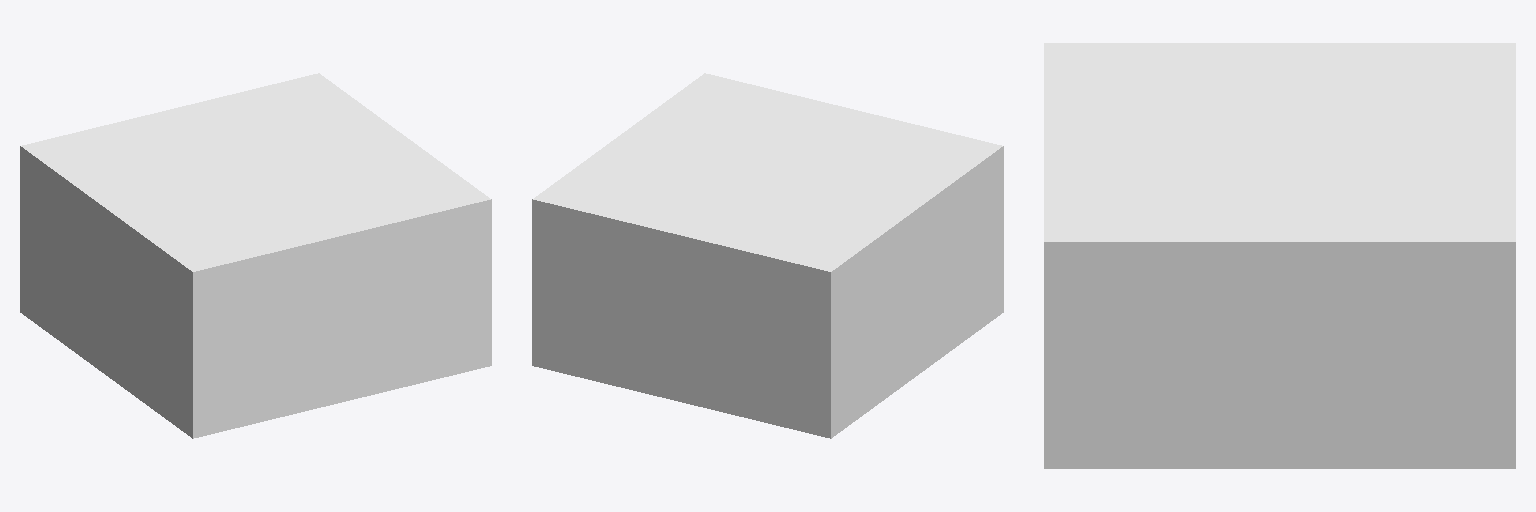
robot.urdf — FlameWheel_F450_propeller_z:
<?xml version="1.0" encoding="utf-8"?>
<!-- This URDF was automatically created by SolidWorks to URDF Exporter! Originally created by [author] ([email redacted]) 
     Commit Version: 1.5.1-0-g916b5db  Build Version: 1.5.7152.31018
     For more information, please see http://wiki.ros.org/sw_urdf_exporter -->
<robot
  name="FlameWheel_F450_propeller_z">
  <link
    name="base_link">
    <inertial>
      <origin
        xyz="-1.6049E-05 0.00031379 0.012018"
        rpy="0 0 0" />
      <mass
        value="0.44728" />
      <inertia
        ixx="0.0007822"
        ixy="1.1982E-11"
        ixz="-1.295E-13"
        iyy="0.00098484"
        iyz="1.1391E-07"
        izz="0.0015565" />
    </inertial>
    <visual>
      <origin
        xyz="0 0 0"
        rpy="0 0 0" />
      <geometry>
        <mesh
          filename="package://FlameWheel_F450_propeller_z/meshes/base_link.STL" />
      </geometry>
      <material
        name="">
        <color
          rgba="1 1 1 1" />
      </material>
    </visual>
    <collision>
      <origin
        xyz="0 0 0"
        rpy="0 0 0" />
      <geometry>
        <mesh
          filename="package://FlameWheel_F450_propeller_z/meshes/base_link.STL" />
      </geometry>
    </collision>
  </link>
  <link
    name="propeller_1_link">
    <inertial>
      <origin
        xyz="3.5799E-07 3.6139E-07 -0.00082037"
        rpy="0 0 0" />
      <mass
        value="0.00082772" />
      <inertia
        ixx="3.593E-07"
        ixy="-3.6419E-07"
        ixz="2.9799E-13"
        iyy="3.8272E-07"
        iyz="2.4963E-13"
        izz="7.3988E-07" />
    </inertial>
    <visual>
      <origin
        xyz="0 0 0"
        rpy="0 0 0" />
      <geometry>
        <mesh
          filename="package://FlameWheel_F450_propeller_z/meshes/propeller_1_link.STL" />
      </geometry>
      <material
        name="">
        <color
          rgba="0.1098 0.1098 0.1098 1" />
      </material>
    </visual>
    <collision>
      <origin
        xyz="0 0 0"
        rpy="0 0 0" />
      <geometry>
        <mesh
          filename="package://FlameWheel_F450_propeller_z/meshes/propeller_1_link.STL" />
      </geometry>
    </collision>
  </link>
  <joint
    name="joint_propeller_1"
    type="revolute">
    <origin
      xyz="0.15891 0.15872 0.062676"
      rpy="0 0 0.7854" />
    <parent
      link="base_link" />
    <child
      link="propeller_1_link" />
    <axis
      xyz="0 0 -1" />
    <limit
      lower="0"
      upper="0"
      effort="0"
      velocity="0" />
  </joint>
  <link
    name="propeller_2_link">
    <inertial>
      <origin
        xyz="-3.6338E-07 3.6483E-07 -0.00082037"
        rpy="0 0 0" />
      <mass
        value="0.00082772" />
      <inertia
        ixx="3.8272E-07"
        ixy="3.6419E-07"
        ixz="-2.3781E-13"
        iyy="3.593E-07"
        iyz="2.6885E-13"
        izz="7.3988E-07" />
    </inertial>
    <visual>
      <origin
        xyz="0 0 0"
        rpy="0 0 0" />
      <geometry>
        <mesh
          filename="package://FlameWheel_F450_propeller_z/meshes/propeller_2_link.STL" />
      </geometry>
      <material
        name="">
        <color
          rgba="0.1098 0.1098 0.1098 1" />
      </material>
    </visual>
    <collision>
      <origin
        xyz="0 0 0"
        rpy="0 0 0" />
      <geometry>
        <mesh
          filename="package://FlameWheel_F450_propeller_z/meshes/propeller_2_link.STL" />
      </geometry>
    </collision>
  </link>
  <joint
    name="joint_propeller_2"
    type="revolute">
    <origin
      xyz="0.1589 -0.15909 0.062676"
      rpy="0 0 -0.7854" />
    <parent
      link="base_link" />
    <child
      link="propeller_2_link" />
    <axis
      xyz="0 0 -1" />
    <limit
      lower="0"
      upper="0"
      effort="0"
      velocity="0" />
  </joint>
  <link
    name="propeller_3_link">
    <inertial>
      <origin
        xyz="3.5935E-07 3.874E-07 -0.00082037"
        rpy="0 0 0" />
      <mass
        value="0.00082772" />
      <inertia
        ixx="3.593E-07"
        ixy="-3.6419E-07"
        ixz="2.9673E-13"
        iyy="3.8272E-07"
        iyz="2.709E-13"
        izz="7.3988E-07" />
    </inertial>
    <visual>
      <origin
        xyz="0 0 0"
        rpy="0 0 0" />
      <geometry>
        <mesh
          filename="package://FlameWheel_F450_propeller_z/meshes/propeller_1_link.STL" />
      </geometry>
      <material
        name="">
        <color
          rgba="0.1098 0.1098 0.1098 1" />
      </material>
    </visual>
    <collision>
      <origin
        xyz="0 0 0"
        rpy="0 0 0" />
      <geometry>
        <mesh
          filename="package://FlameWheel_F450_propeller_z/meshes/propeller_1_link.STL" />
      </geometry>
    </collision>
  </link>
  <joint
    name="joint_propeller_3"
    type="revolute">
    <origin
      xyz="-0.15891 -0.15908 0.062676"
      rpy="0 0 0.7854" />
    <parent
      link="base_link" />
    <child
      link="propeller_3_link" />
    <axis
      xyz="0 0 -1" />
    <limit
      lower="0"
      upper="0"
      effort="0"
      velocity="0" />
  </joint>
  <link
    name="propeller_4_link">
    <inertial>
      <origin
        xyz="-3.691E-07 3.5632E-07 -0.00082037"
        rpy="0 0 0" />
      <mass
        value="0.00082772" />
      <inertia
        ixx="3.8272E-07"
        ixy="3.6419E-07"
        ixz="-2.49E-13"
        iyy="3.593E-07"
        iyz="2.7924E-13"
        izz="7.3988E-07" />
    </inertial>
    <visual>
      <origin
        xyz="0 0 0"
        rpy="0 0 0" />
      <geometry>
        <mesh
          filename="package://FlameWheel_F450_propeller_z/meshes/propeller_2_link.STL" />
      </geometry>
      <material
        name="">
        <color
          rgba="0.1098 0.1098 0.1098 1" />
      </material>
    </visual>
    <collision>
      <origin
        xyz="0 0 0"
        rpy="0 0 0" />
      <geometry>
        <mesh
          filename="package://FlameWheel_F450_propeller_z/meshes/propeller_2_link.STL" />
      </geometry>
    </collision>
  </link>
  <joint
    name="joint_propeller_4"
    type="revolute">
    <origin
      xyz="-0.1589 0.15873 0.062676"
      rpy="0 0 -0.7854" />
    <parent
      link="base_link" />
    <child
      link="propeller_4_link" />
    <axis
      xyz="0 0 -1" />
    <limit
      lower="0"
      upper="0"
      effort="0"
      velocity="0" />
  </joint>
</robot>

--- Render facts (derived) ---
Views: 3 orthographic renders of the robot side by side, from view 1: azimuth 30°, elevation 25°; view 2: azimuth 150°, elevation 25°; view 3: azimuth 270°, elevation 25°.
Robot: FlameWheel_F450_propeller_z — 5 links, 4 joints (4 revolute); root link base_link; default pose: all joints at 0.
Visible links, largest first — view 1: base_link; view 2: base_link; view 3: base_link.
Boxes of the visible links, left/top/right/bottom form: base_link: left=20, top=73, right=491, bottom=438; base_link: left=532, top=73, right=1003, bottom=438; base_link: left=1044, top=43, right=1515, bottom=468.
Size in the robot's own frame: 0.003 by 0.003 by 0.0016 metres.
1 mesh visuals loaded from 3 distinct referenced files (1 binary STL); not drawn: 4 (reference not matched to a file when rendering).